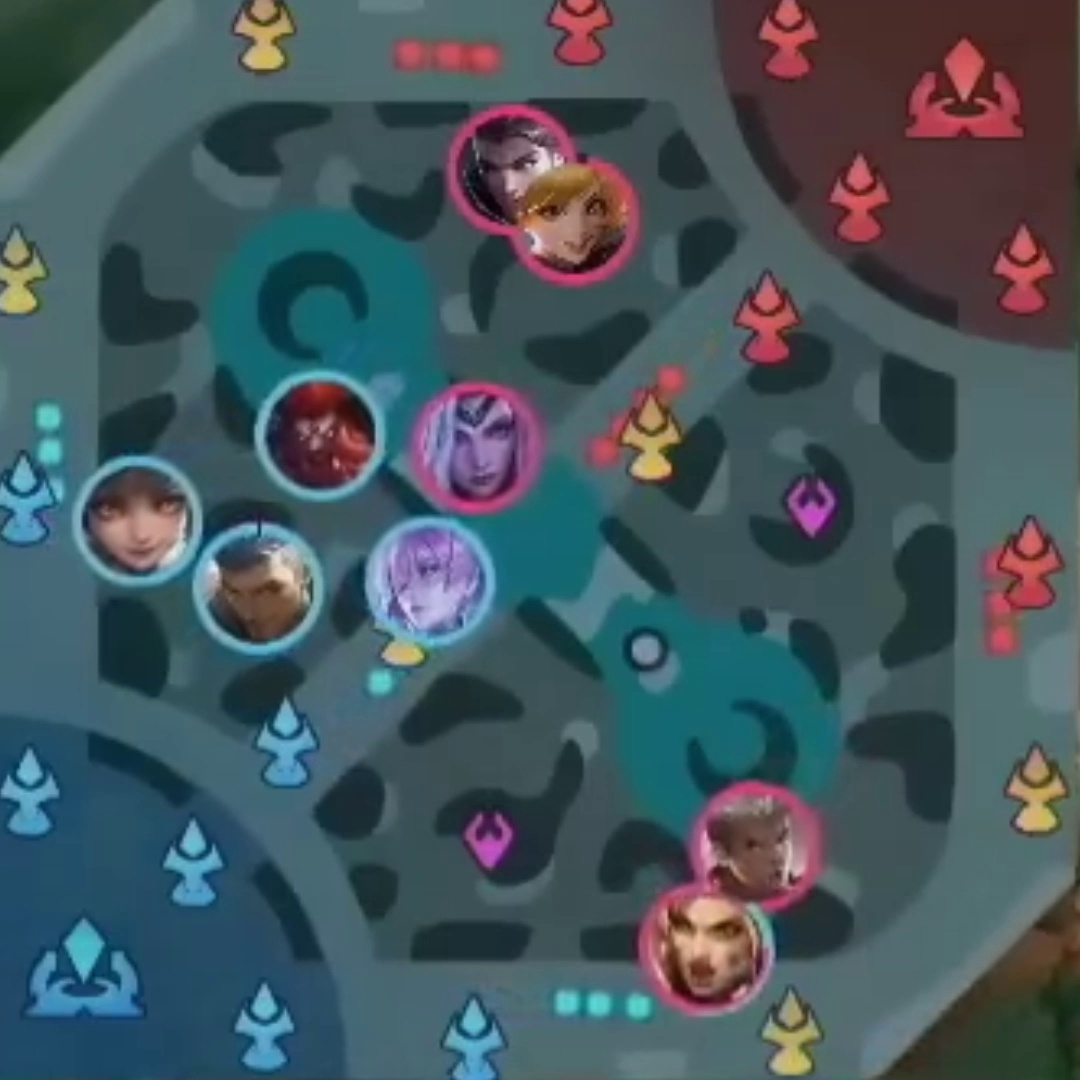Chou: (706, 789, 808, 900)
Claude: (458, 111, 542, 203)
Fanny: (522, 166, 627, 273)
Fredrinn: (208, 536, 314, 638)
Masha: (652, 896, 755, 999)
Minotaur: (270, 381, 370, 491)
Novaria: (378, 529, 480, 628)
Valentina: (422, 394, 532, 500)
Wanwan: (84, 465, 185, 568)
